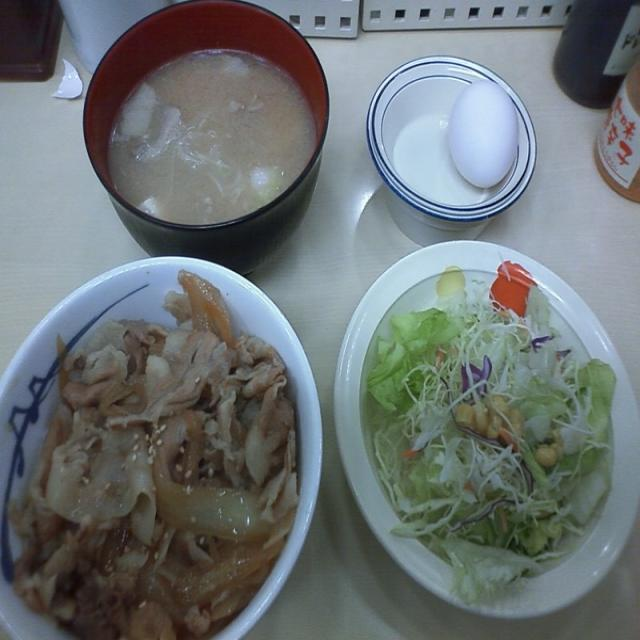Egg: (440, 70, 526, 194)
Green Salad: (353, 262, 621, 596)
